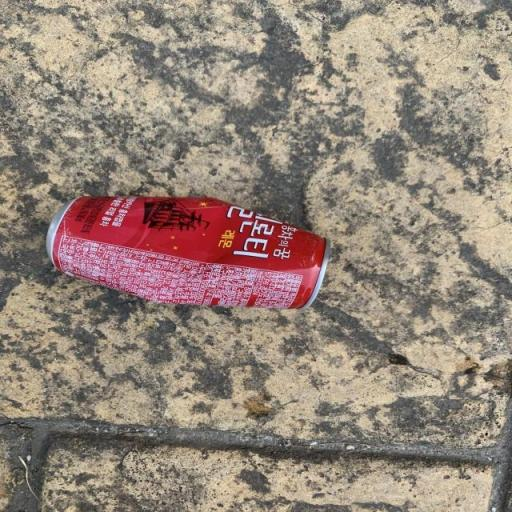metal: (28, 172, 358, 344)
